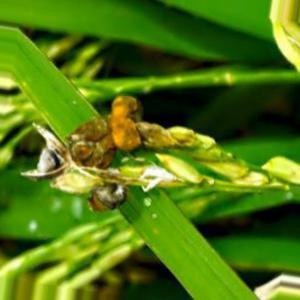False Smut: (105, 90, 146, 159)
